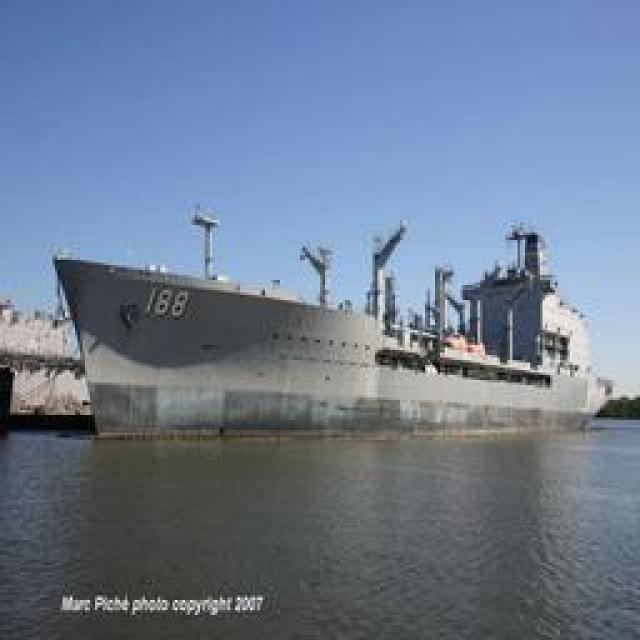CIV_Ship: (25, 215, 613, 440)
